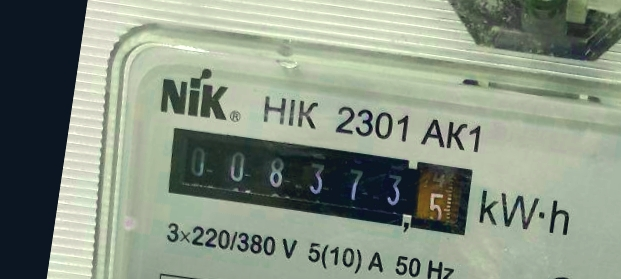0: (185, 142, 210, 180), (225, 147, 249, 185)
3: (380, 170, 407, 209), (303, 158, 329, 198)
4: (428, 168, 449, 191)
5: (424, 189, 448, 222)
7: (342, 163, 366, 204)
8: (263, 152, 289, 191)
screen: (157, 118, 483, 250)
